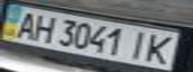0: (69, 20, 93, 52)
1: (103, 25, 127, 57)
3: (51, 17, 78, 48)
4: (87, 22, 109, 54)
A: (6, 9, 42, 39)
H: (27, 11, 60, 44)
I: (124, 28, 154, 61)
K: (139, 32, 181, 65)
